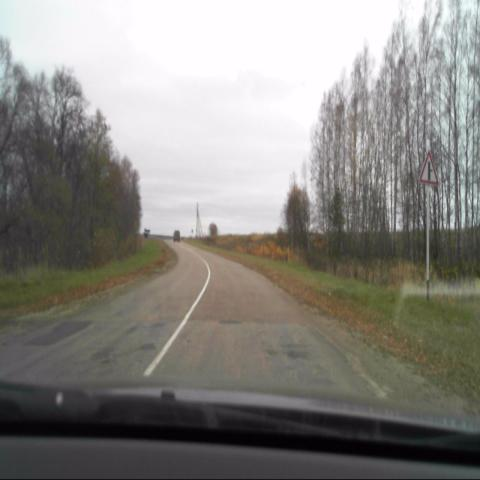2_3_2: (419, 149, 438, 184)
